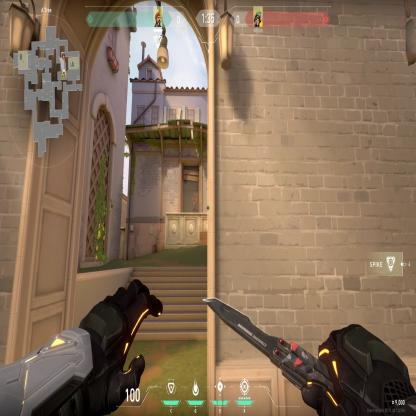enemy: (191, 190, 198, 213)
